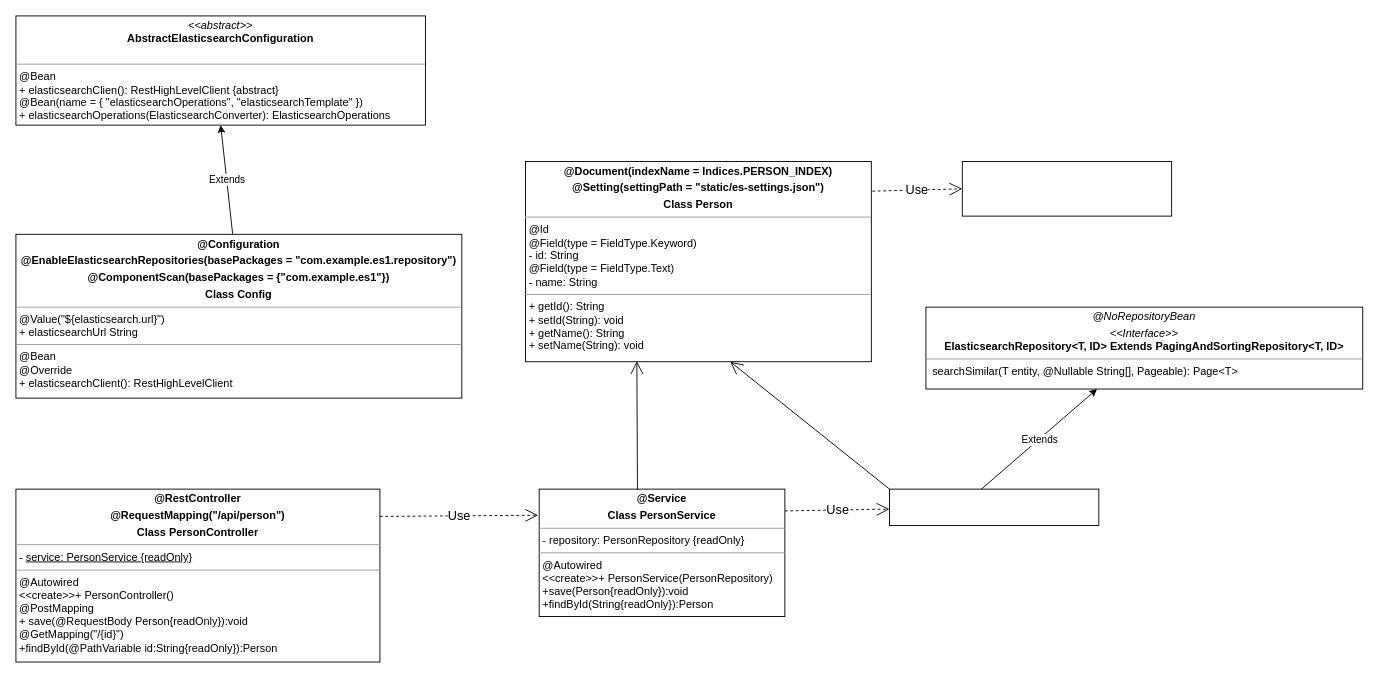
The diagram is 1379 pixels wide and 678 high, and some of its shapes have lost their labels. Here are the shapes that lost their labels. From the top down, the box of each, then its label:
(961, 161, 1172, 216): Class Indices + PERSON_INDEX: String{readOnly}
(889, 488, 1099, 526): <<Interface>> PersonRepository
